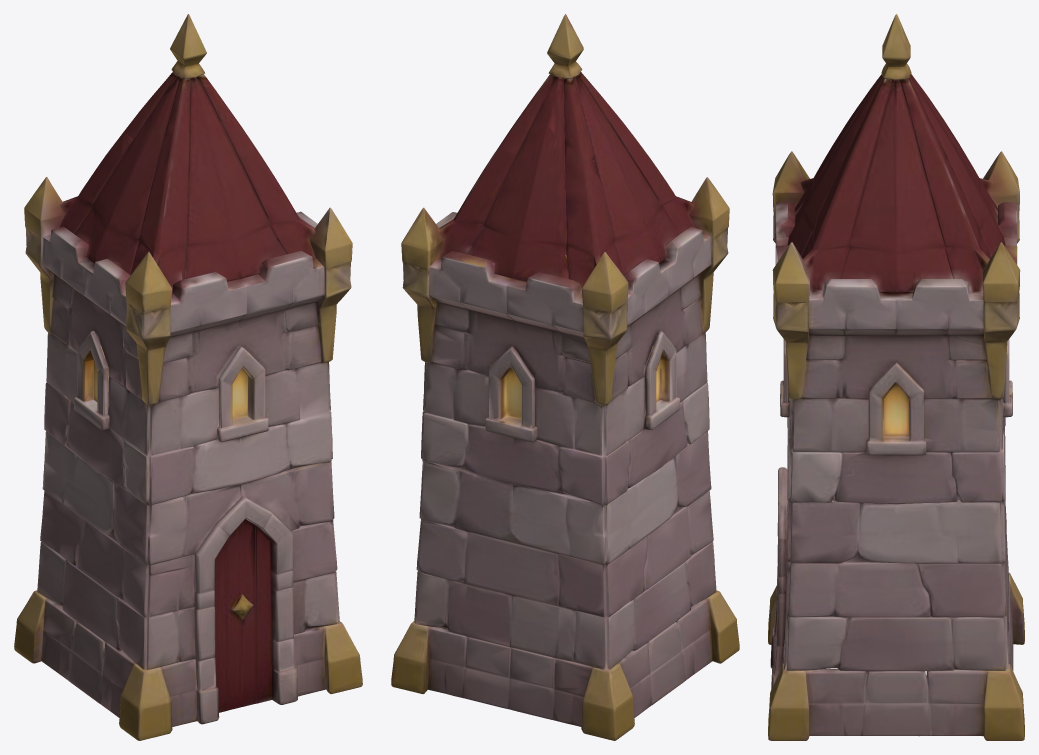
Rendered from king_tower_a.glb.
3 views of the same model, side by side, from view 1: azimuth 30°, elevation 25°; view 2: azimuth 150°, elevation 25°; view 3: azimuth 270°, elevation 25° (orthographic). The views are drawn at different scales.
Visible parts, largest first — view 1: node_0; view 2: node_0; view 3: node_0.
Part boxes in pixels (x1=…): node_0: x1=14, y1=14, x2=362, y2=740; node_0: x1=391, y1=14, x2=739, y2=740; node_0: x1=768, y1=14, x2=1024, y2=740.
Size of the model in its own units: 0.3874 by 1.08 by 0.3729.
Materials: 1 (1 with a texture image).
